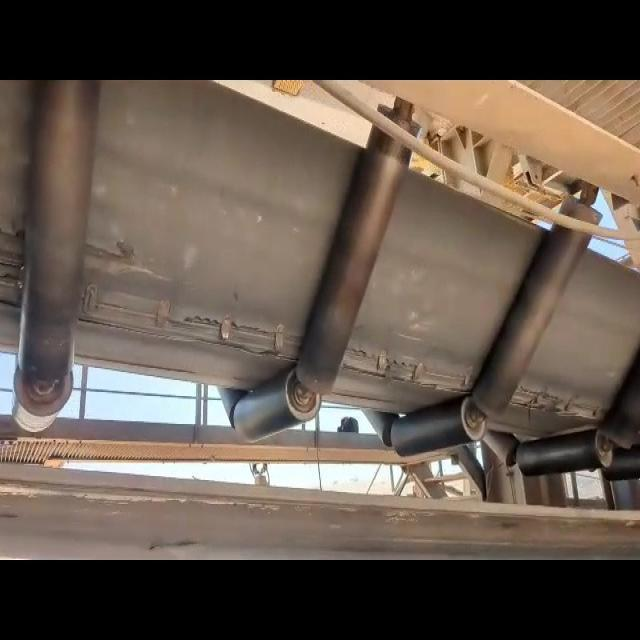Tear: (78, 282, 304, 366), (344, 334, 482, 397), (510, 378, 610, 428), (0, 232, 30, 310)
Wear: (76, 224, 175, 286)
